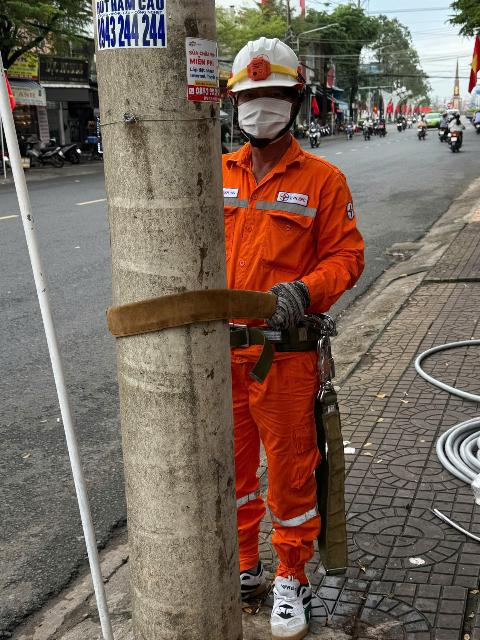gloves: (258, 272, 314, 329)
harness: (105, 282, 338, 354)
helmet: (213, 19, 317, 103)
shoes: (260, 569, 318, 640), (198, 563, 270, 606)
